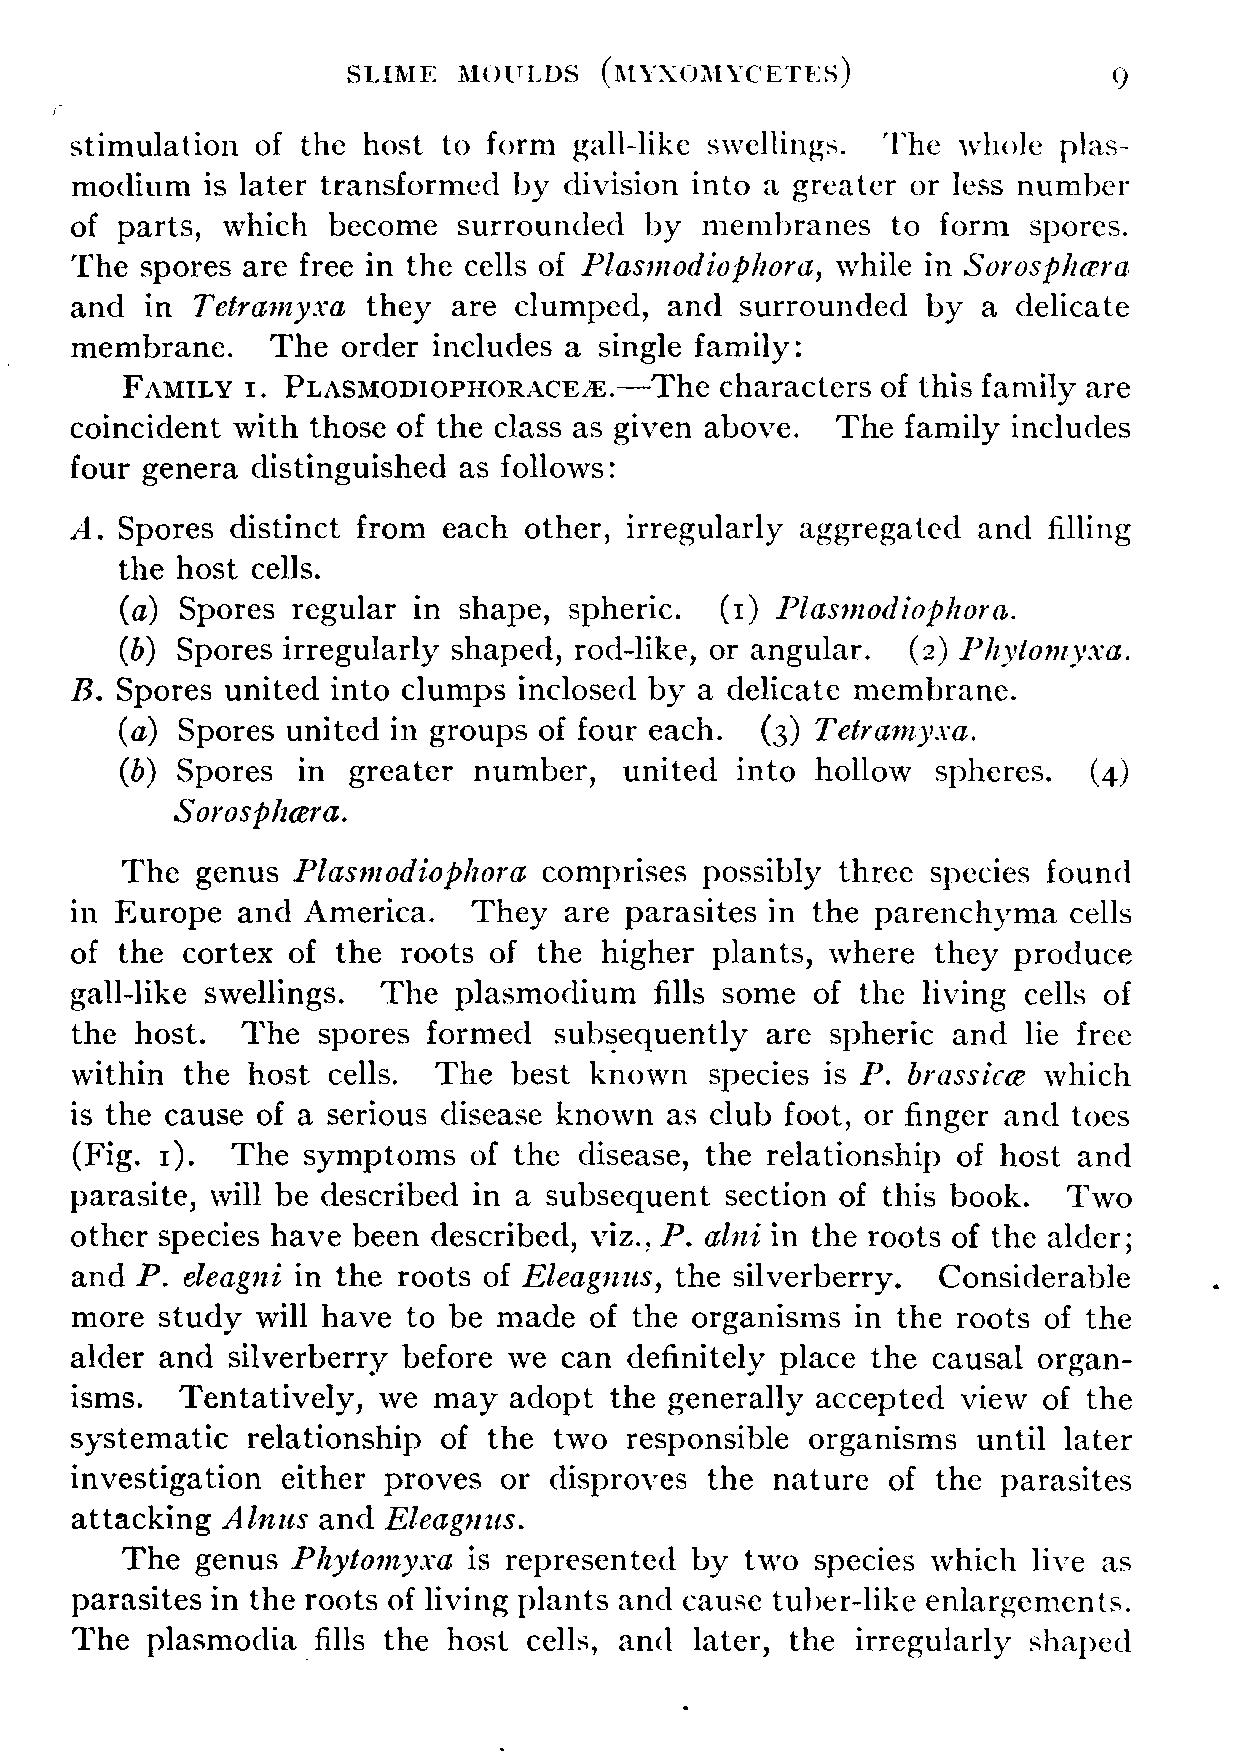content: (58, 126, 1143, 1660)
content_chapter: (335, 52, 855, 89)
content_pagenumber: (1100, 60, 1131, 98)
